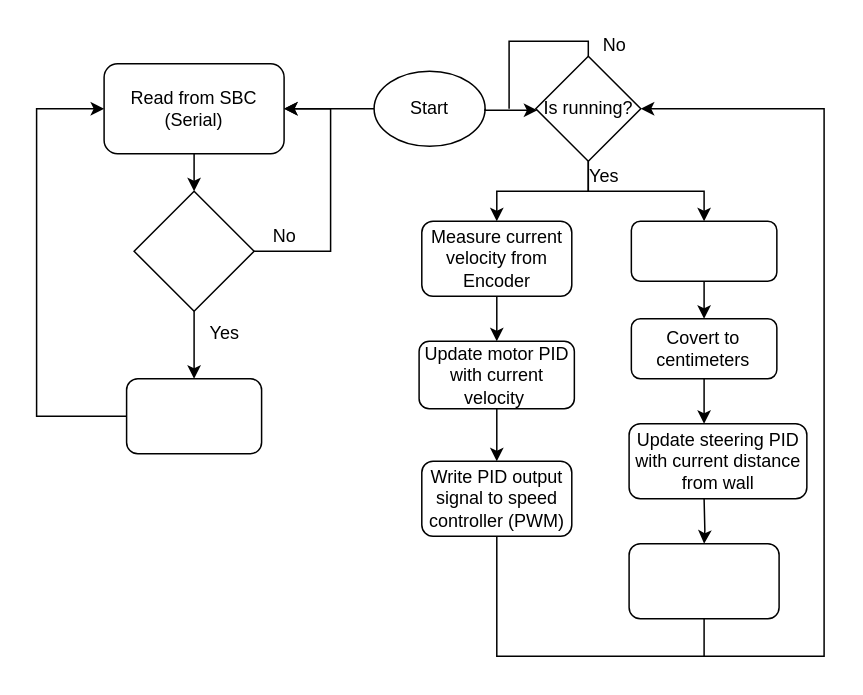
The diagram is 863 pixels wide and 695 high, and some of its shapes have lost their labels. Here are the shapes that lost their labels. From the top down, the centre of each, then its label:
the point at 193,250: Input recieved?
the point at 703,250: Read Sonar signal
the point at 193,415: Set motor PID target to received input
the point at 703,580: Write PID output signal to steering servo (PWM)
